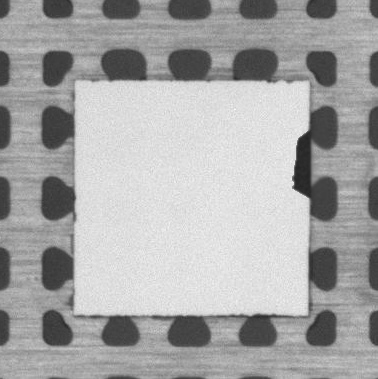DIE_BROKEN: (292, 128, 313, 201)
